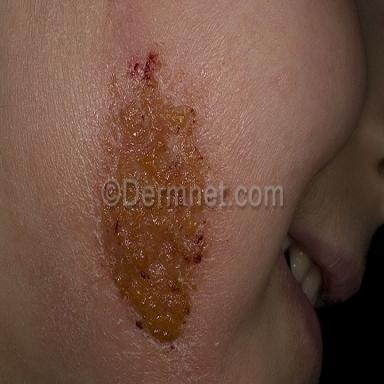Impetigo: (100, 205, 213, 354), (102, 46, 209, 188)
